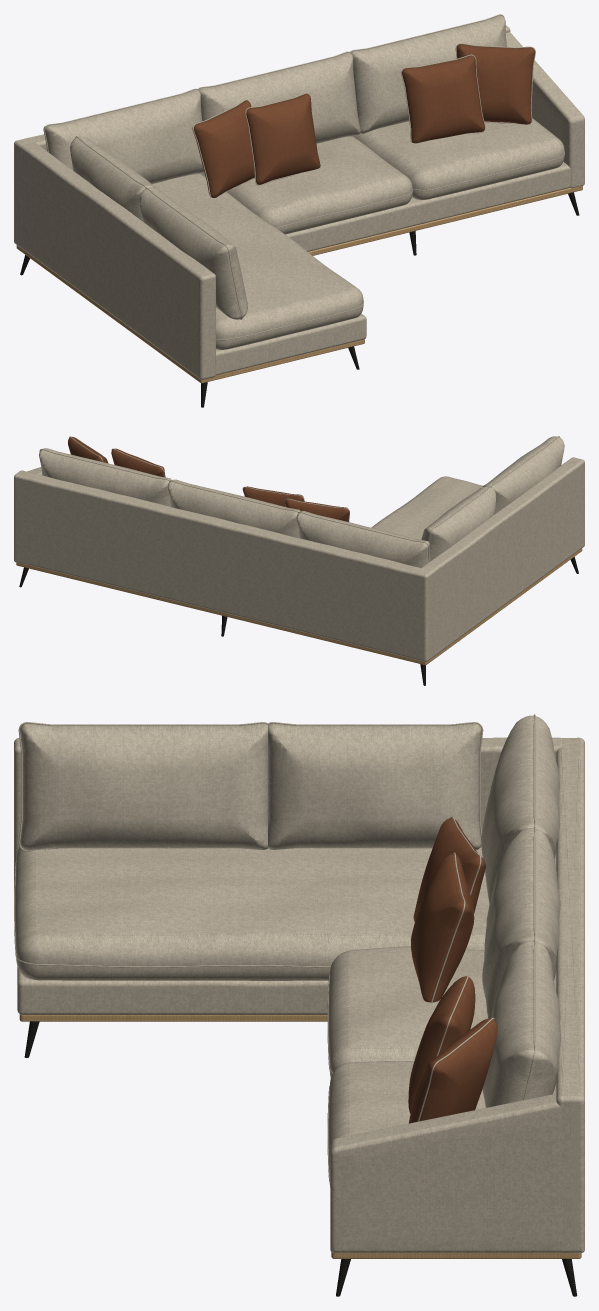
The model's file is corner.glb.
3 views of the same model, one above another, from view 1: azimuth 30°, elevation 25°; view 2: azimuth 150°, elevation 25°; view 3: azimuth 270°, elevation 25° (orthographic). The views are drawn at different scales.
Visible parts, largest first — view 1: fabric (×2), accent, trim, pillows, legs; view 2: fabric (×2), accent, trim, pillows, legs; view 3: fabric (×2), accent, trim, pillows, legs.
Boxes of the visible parts, x1=… form: fabric (×2): x1=14, y1=14, x2=584, y2=379; accent: x1=192, y1=44, x2=534, y2=197; trim: x1=16, y1=186, x2=582, y2=383; pillows: x1=193, y1=43, x2=535, y2=197; legs: x1=20, y1=192, x2=579, y2=407; fabric (×2): x1=14, y1=436, x2=584, y2=661; accent: x1=68, y1=437, x2=349, y2=521; trim: x1=16, y1=548, x2=582, y2=665; pillows: x1=69, y1=436, x2=349, y2=521; legs: x1=19, y1=557, x2=578, y2=685; fabric (×2): x1=14, y1=714, x2=584, y2=1252; accent: x1=408, y1=818, x2=497, y2=1123; trim: x1=19, y1=1014, x2=581, y2=1258; pillows: x1=417, y1=816, x2=494, y2=1121; legs: x1=24, y1=1021, x2=577, y2=1296.
Size of the model in its own units: 3 by 0.9163 by 2.
5 materials, 5 textured.
